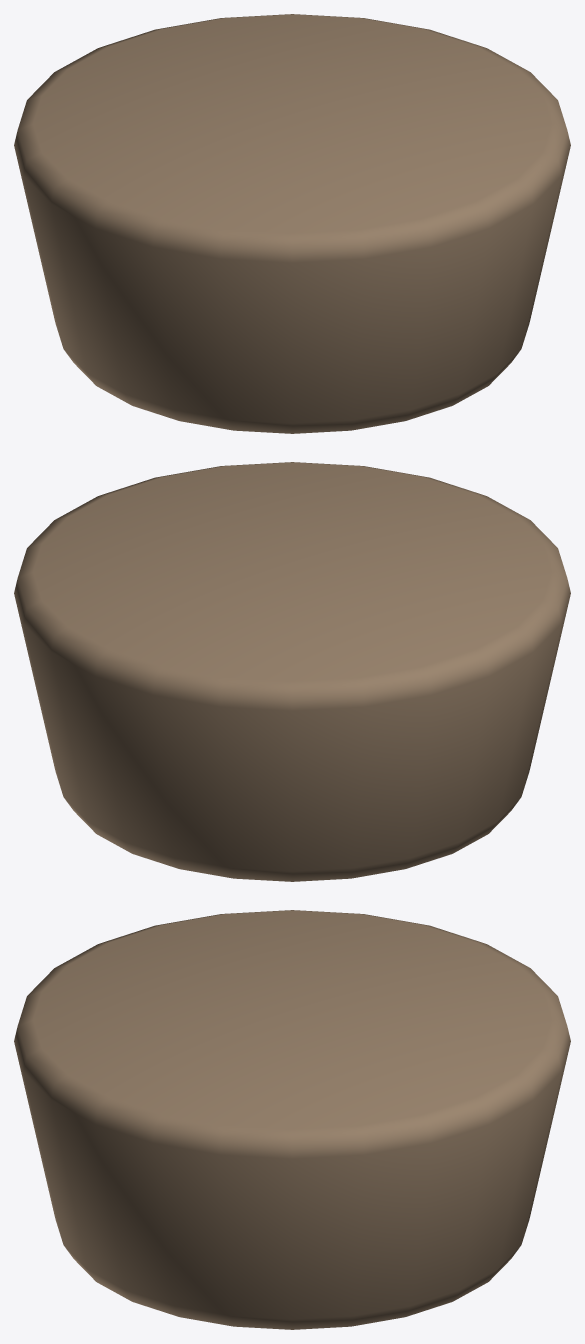
The model's file is JarLid.fbx.
3 views of the same model, one above another, from view 1: azimuth 30°, elevation 25°; view 2: azimuth 150°, elevation 25°; view 3: azimuth 270°, elevation 25° (orthographic).
Visible parts, largest first — view 1: JarLid; view 2: JarLid; view 3: JarLid.
Boxes of the visible parts, x1,y1,x2,y2 form: JarLid: (14, 14, 570, 433); JarLid: (14, 462, 570, 881); JarLid: (14, 910, 570, 1329).
Bounding box in the file's own units: 129 × 56.21 × 129.
